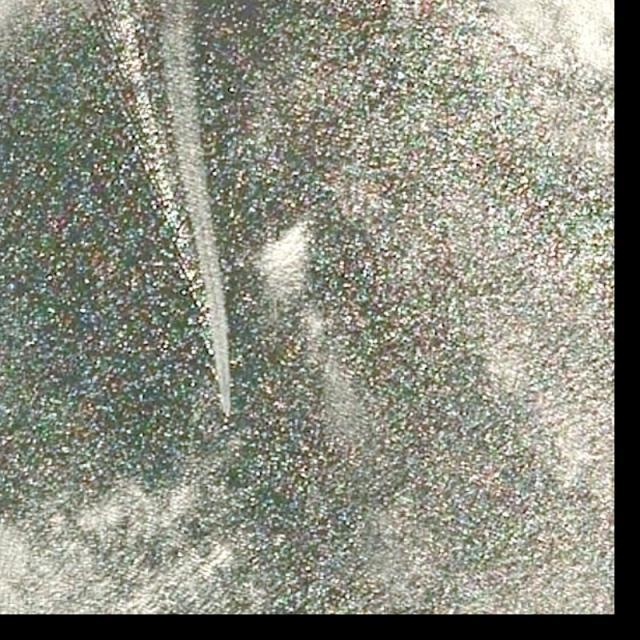ship: (225, 410, 231, 420)
